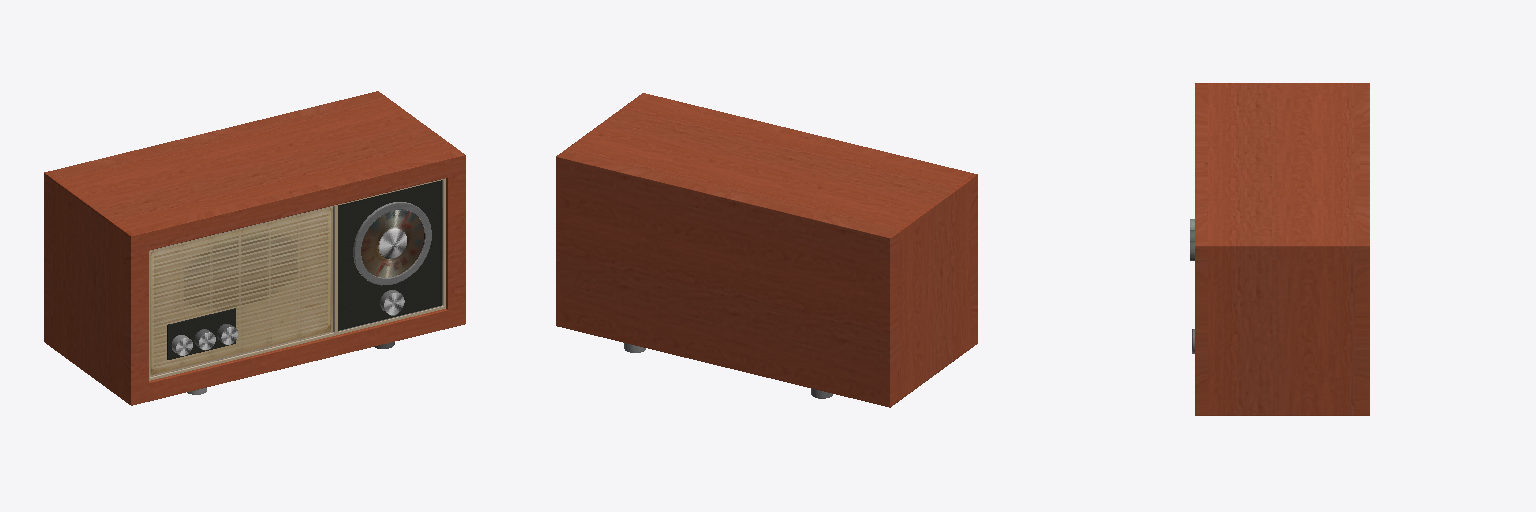
3 renders of one model, left to right at view 1: azimuth 30°, elevation 25°; view 2: azimuth 150°, elevation 25°; view 3: azimuth 270°, elevation 25°, orthographic.
Parts seen in each view (by area): view 1: 20918_modern_tabletop_radio_v1; view 2: 20918_modern_tabletop_radio_v1; view 3: 20918_modern_tabletop_radio_v1.
Boxes of the visible parts, x1=… form: 20918_modern_tabletop_radio_v1: x1=44, y1=91, x2=465, y2=405; 20918_modern_tabletop_radio_v1: x1=556, y1=93, x2=977, y2=407; 20918_modern_tabletop_radio_v1: x1=1190, y1=83, x2=1369, y2=415.
Size of the model in its own units: 0.7818 by 0.4084 by 0.3632.
1 materials, 1 textured.